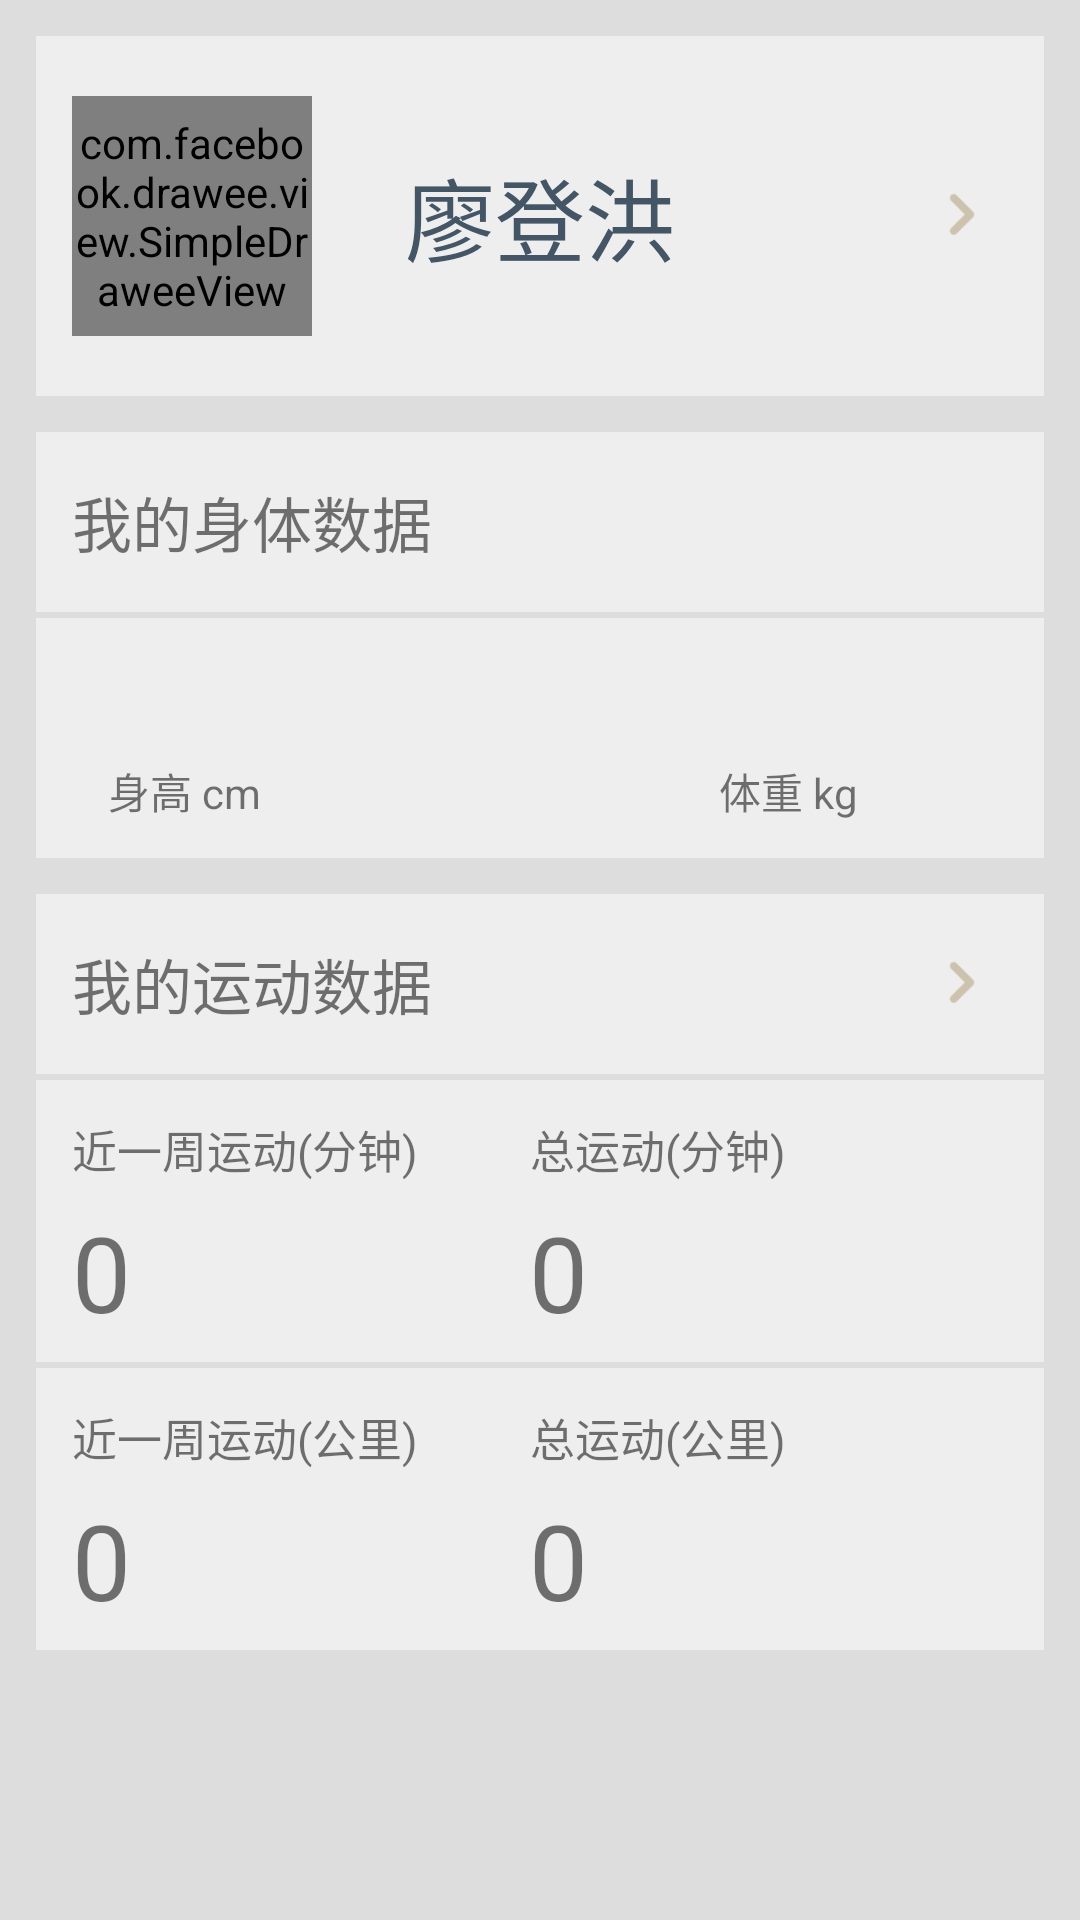

Icons on this 1080 x 1920 Android screen, each with the point to tap as point (x, y):
ja detaildisclosure: point (962, 214), point (962, 982)
